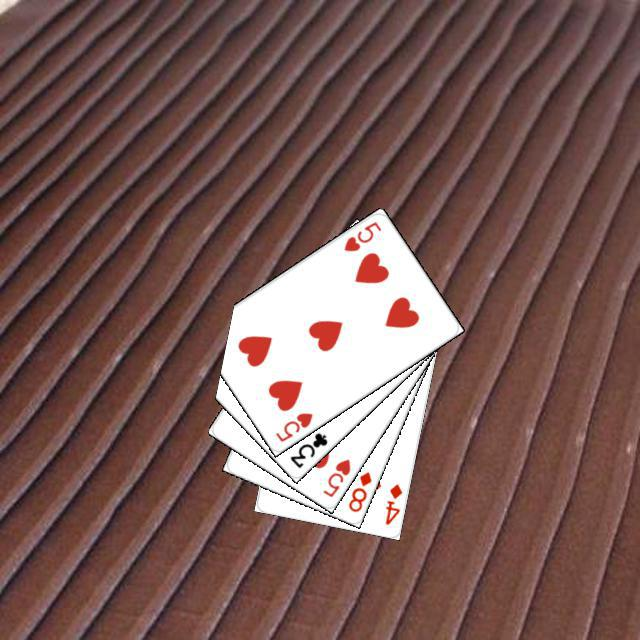3c: (285, 428, 329, 470)
4d: (380, 479, 404, 526)
5h: (270, 407, 314, 444), (339, 216, 383, 253), (318, 454, 352, 499)
8d: (343, 467, 373, 514)
